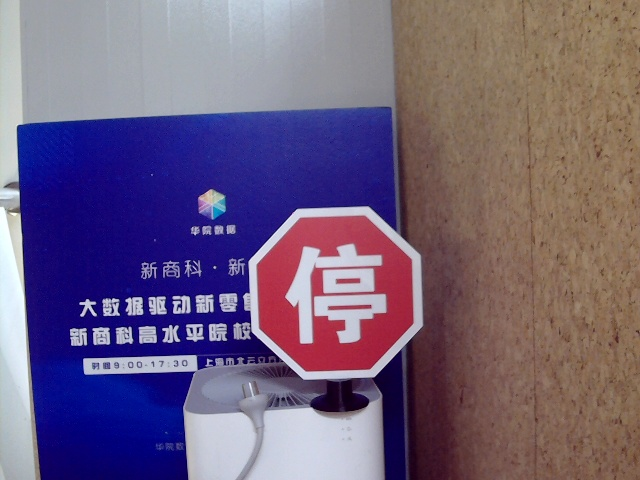stop: (282, 241, 389, 343)
